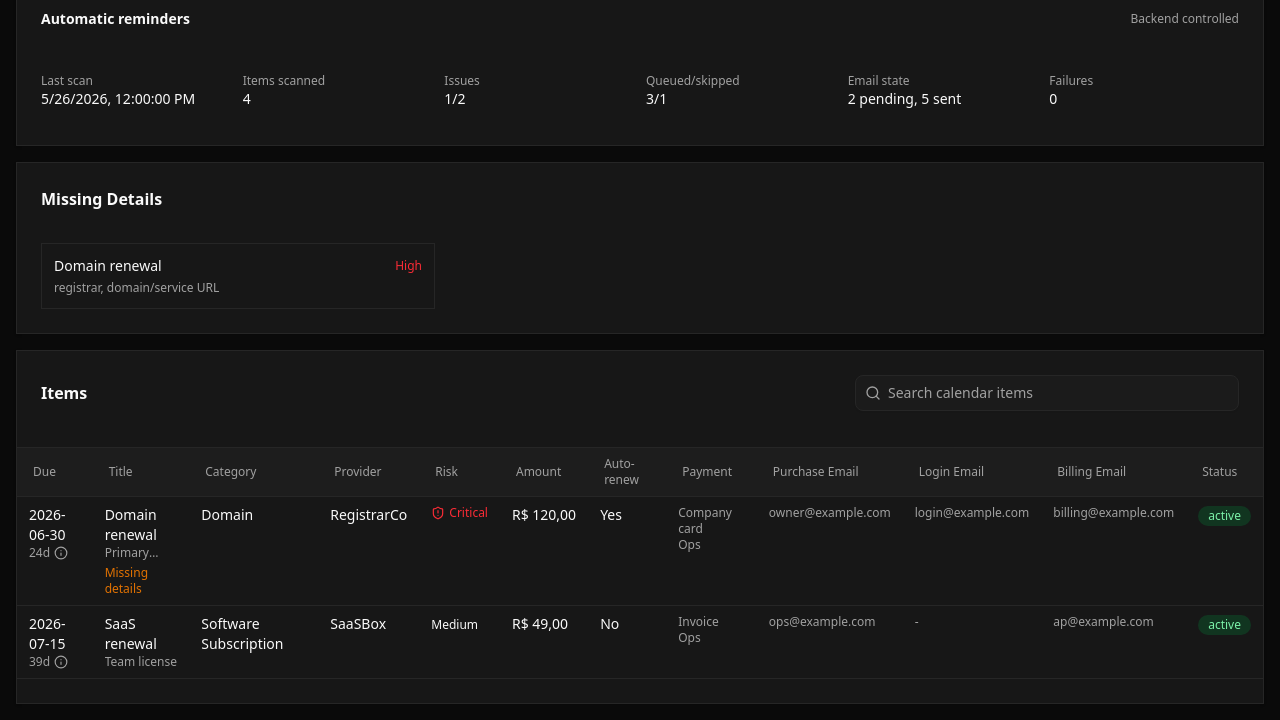
Test: Calendar › preserves document and history access in the item dialog
(page scrolled)
Click the button with test id "calendar-item-row-item-1". click: (47, 514)
box: [17, 496, 1263, 605]
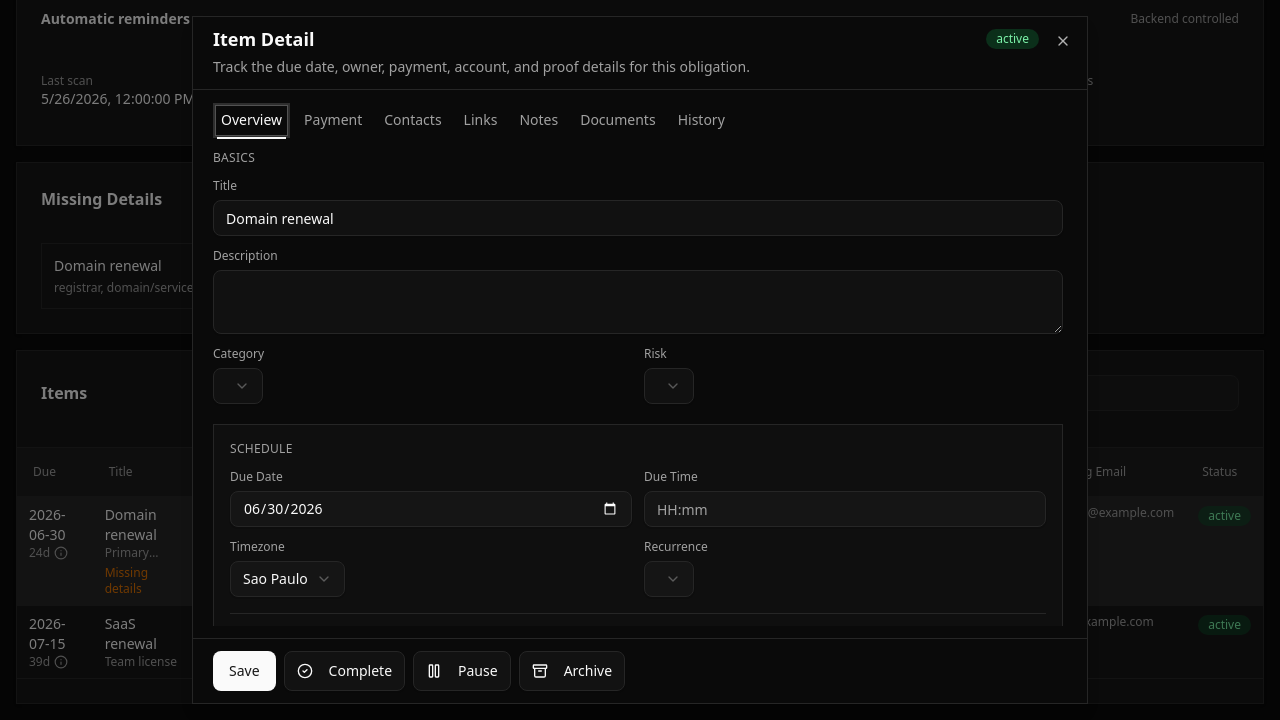
Click the tab with test id "calendar-tab-documents". click: (618, 120)
box: [575, 106, 661, 134]
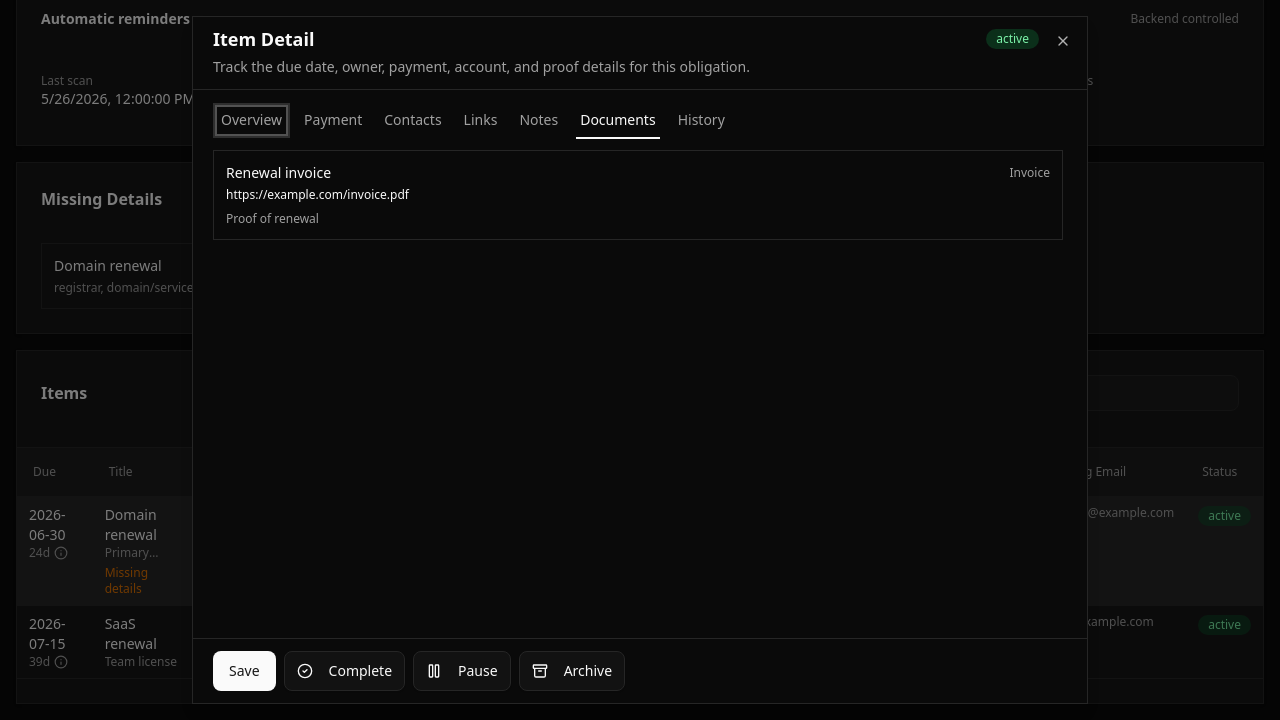
expect the text "Renewal invoice" is shown: met, box [226, 163, 331, 183]
expect the text "Proof of renewal" is shown: met, box [226, 210, 319, 227]
Click the tab with test id "calendar-tab-history". click: (701, 120)
box: [673, 106, 730, 134]
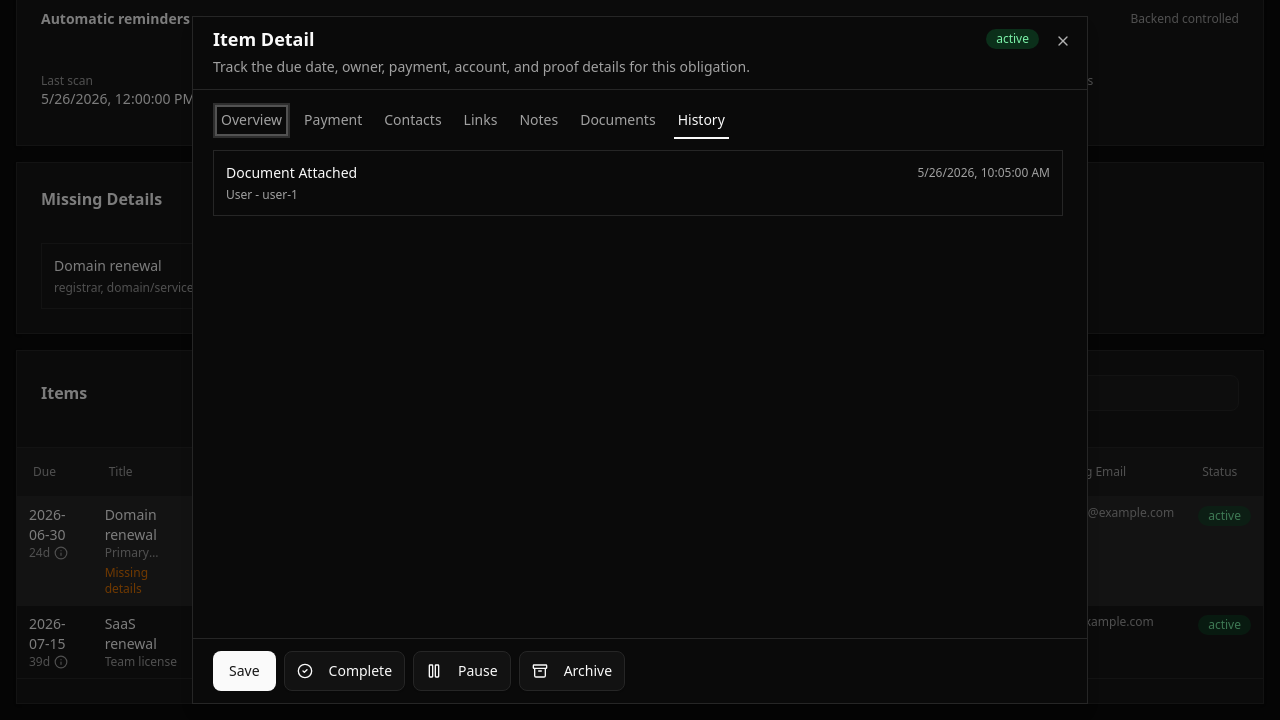
expect the text "Document Attached" is shown: met, box [226, 163, 357, 183]
expect the text "User - user-1" is shown: met, box [226, 186, 298, 203]
